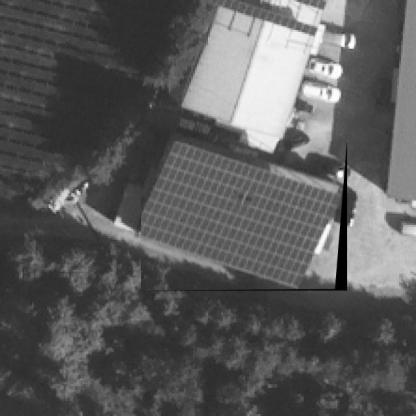solar-pv-panel: (141, 141, 344, 290)
